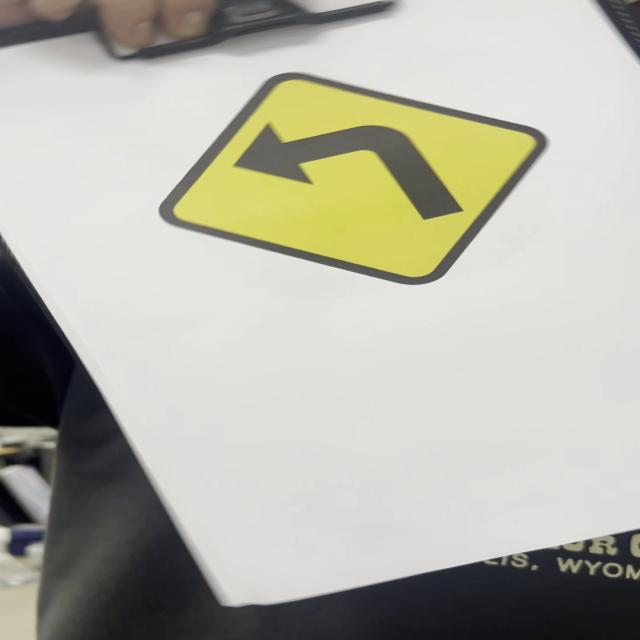left: (154, 75, 557, 285)
